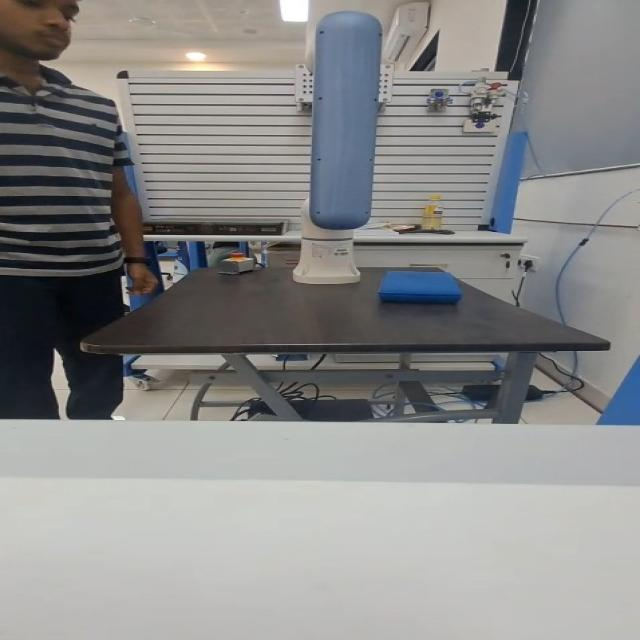top-surface: (390, 271, 450, 288)
